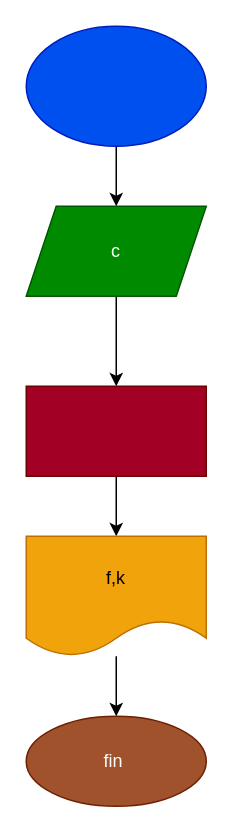
The diagram is 233 pixels wide and 833 high, and some of its shapes have lost their labels. Here are the shapes that lost their labels. From the top down, the centre of each, then its label:
point 115,85: Inicio
point 115,430: k= c+273.15 f=1.8*c+32
